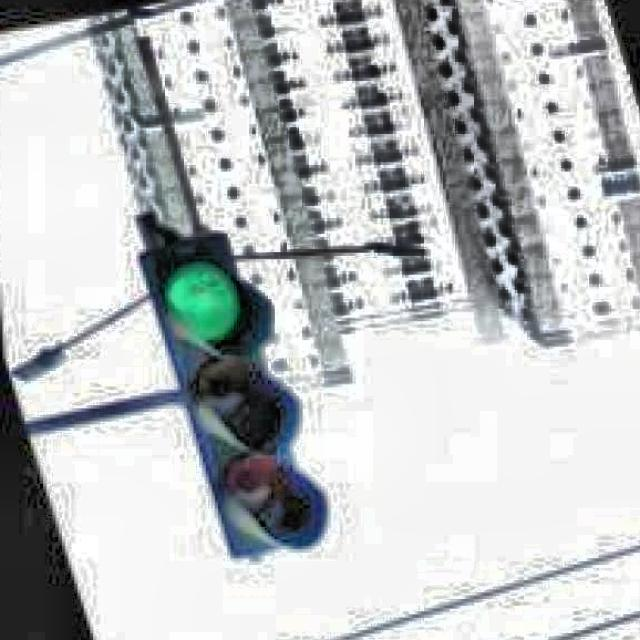green: (138, 236, 324, 548)
